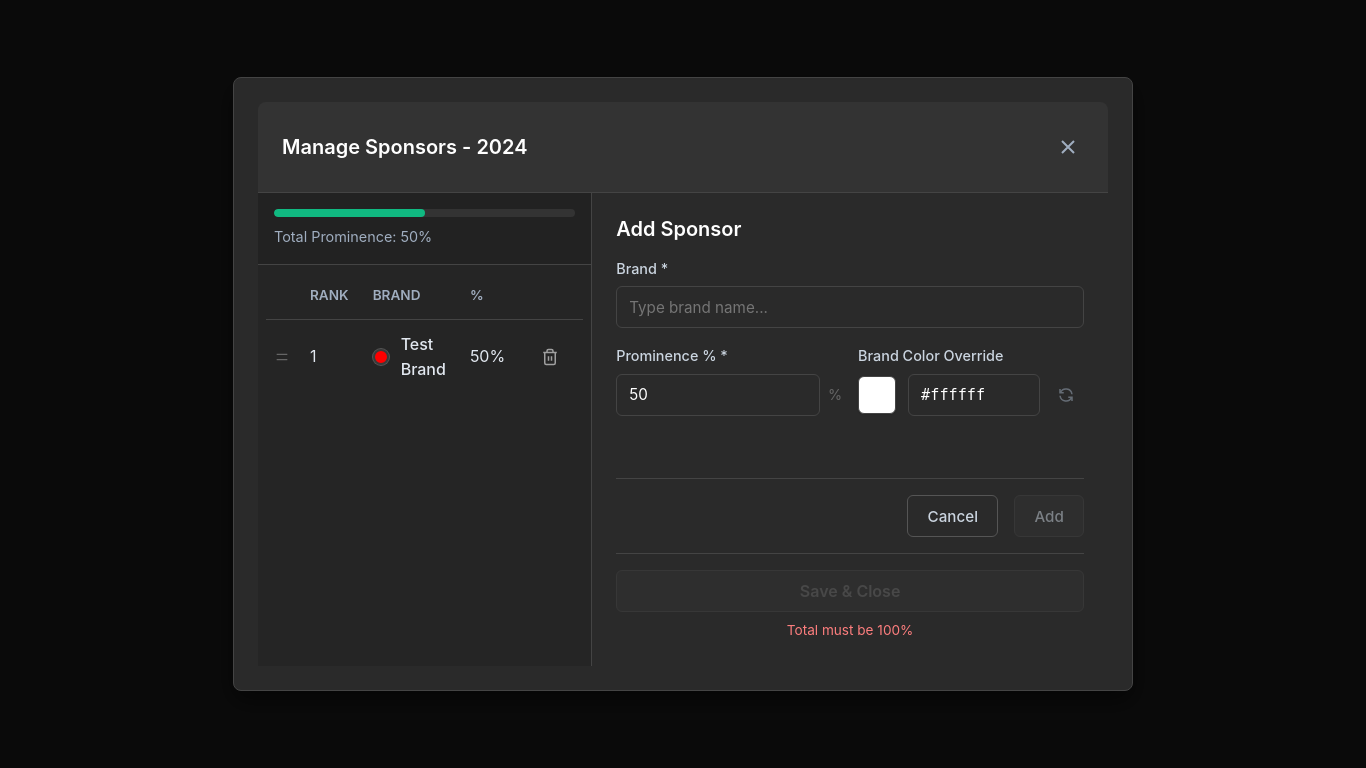
Test: SponsorManagerModal › resets color override to default when reset button is clicked
Expected: the text "Test Brand" is shown, [373,332,446,383]
// Click the row to start editing
Step 1. Click the text "Test Brand" → point(425, 357), box [266,320,583,395]
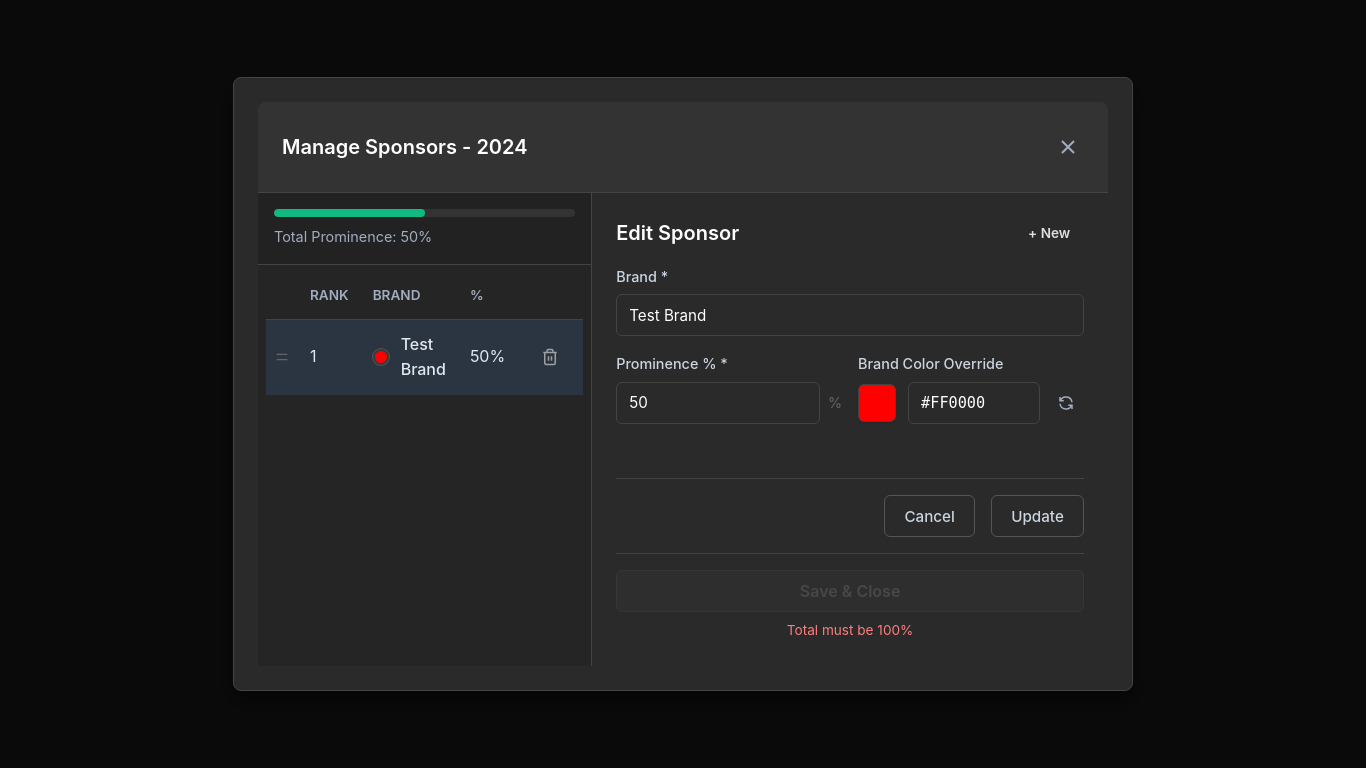
Expected: the field showing "#FF0000" below "Brand Color Override" is shown, [908,382,1040,424]
Step 2. Click the button named "reset to brand default" → point(1066, 403), box [1048,385,1084,421]
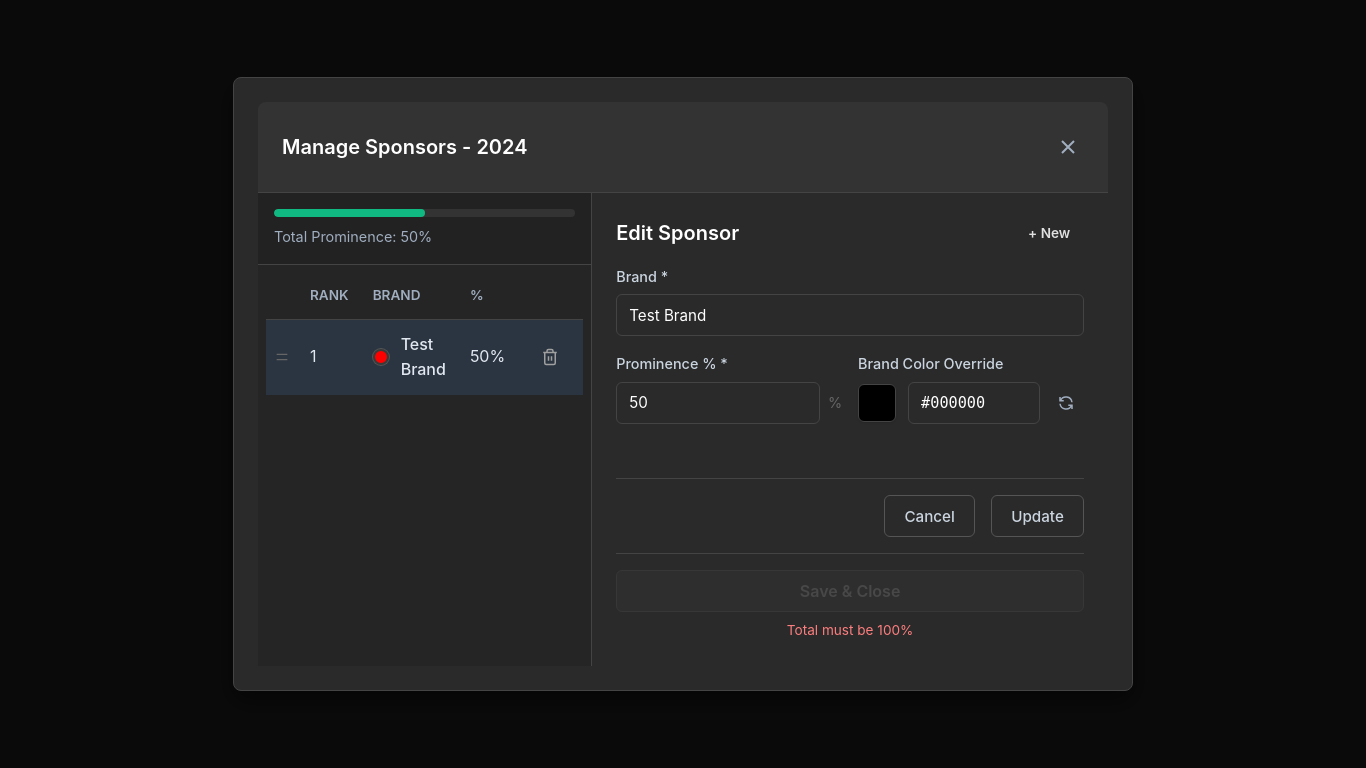
Expected: the field with placeholder "#RRGGBB" below "Brand Color Override" holds "#000000", [908,382,1040,424]
